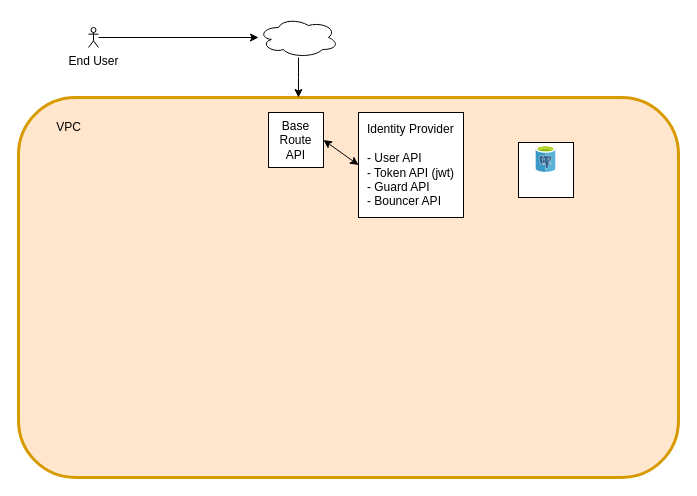
The diagram is 697 pixels wide and 496 high, and some of its shapes have lost their labels. Here are the shapes that lost their labels. From the top down, the centre of each, then its label:
(298,37): Internet
(545,159): SSO DB
